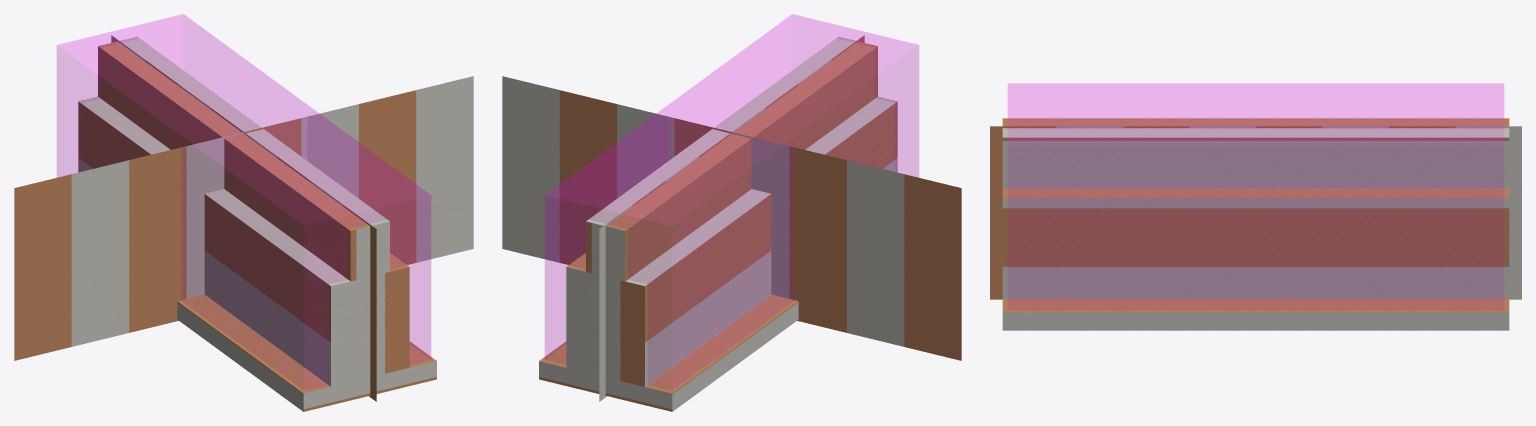
Rendered from krail_stripe_2m.dae.
3 views of the same model, side by side, from view 1: azimuth 30°, elevation 25°; view 2: azimuth 150°, elevation 25°; view 3: azimuth 270°, elevation 25° (orthographic).
Parts seen in each view (by area): view 1: Colmesh_krail-1, krail_stripe_2m_a50, krail_stripe_2m_a800, krail_stripe_2m_a200; view 2: Colmesh_krail-1, krail_stripe_2m_a50, krail_stripe_2m_a800, krail_stripe_2m_a200; view 3: krail_stripe_2m_a800, Colmesh_krail-1, krail_stripe_2m_a200, krail_stripe_2m_a50.
Boxes of the visible parts, x1,y1,x2,y2 form: Colmesh_krail-1: [57, 14, 430, 390]; krail_stripe_2m_a50: [14, 35, 473, 401]; krail_stripe_2m_a800: [78, 36, 436, 411]; krail_stripe_2m_a200: [204, 214, 409, 386]; Colmesh_krail-1: [545, 14, 918, 390]; krail_stripe_2m_a50: [502, 35, 961, 401]; krail_stripe_2m_a800: [539, 36, 897, 411]; krail_stripe_2m_a200: [568, 97, 897, 386]; krail_stripe_2m_a800: [1002, 118, 1509, 330]; Colmesh_krail-1: [1008, 83, 1503, 309]; krail_stripe_2m_a200: [1002, 188, 1503, 298]; krail_stripe_2m_a50: [990, 126, 1521, 299].
Bounding box in the file's own units: 2.1 × 2.1 × 0.8074.
Materials: 2 (1 with a texture image).
